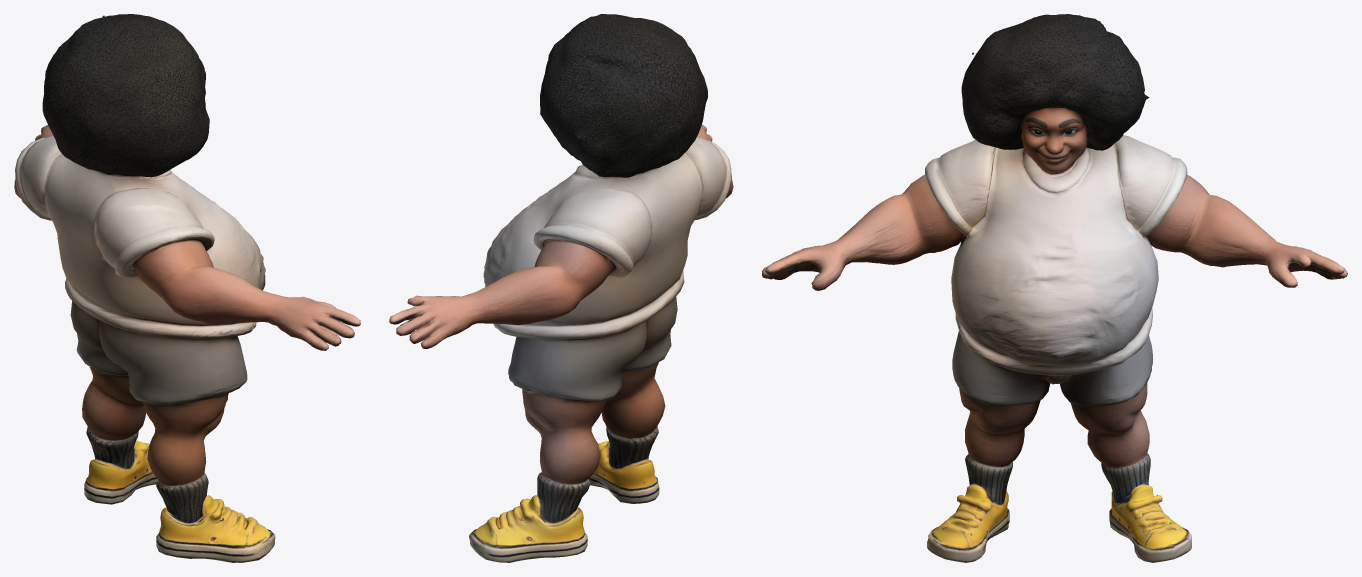
3 views of the same model, side by side, from view 1: azimuth 30°, elevation 25°; view 2: azimuth 150°, elevation 25°; view 3: azimuth 270°, elevation 25° (orthographic).
Visible parts, largest first — view 1: tripo_node_57df95a1; view 2: tripo_node_57df95a1; view 3: tripo_node_57df95a1.
Boxes of the visible parts, x1,y1,x2,y2 form: tripo_node_57df95a1: (14,14,360,562); tripo_node_57df95a1: (389,14,733,562); tripo_node_57df95a1: (762,14,1347,562).
Size of the model in its own units: 0.4012 by 0.9413 by 1.
1 material, 1 textured.
